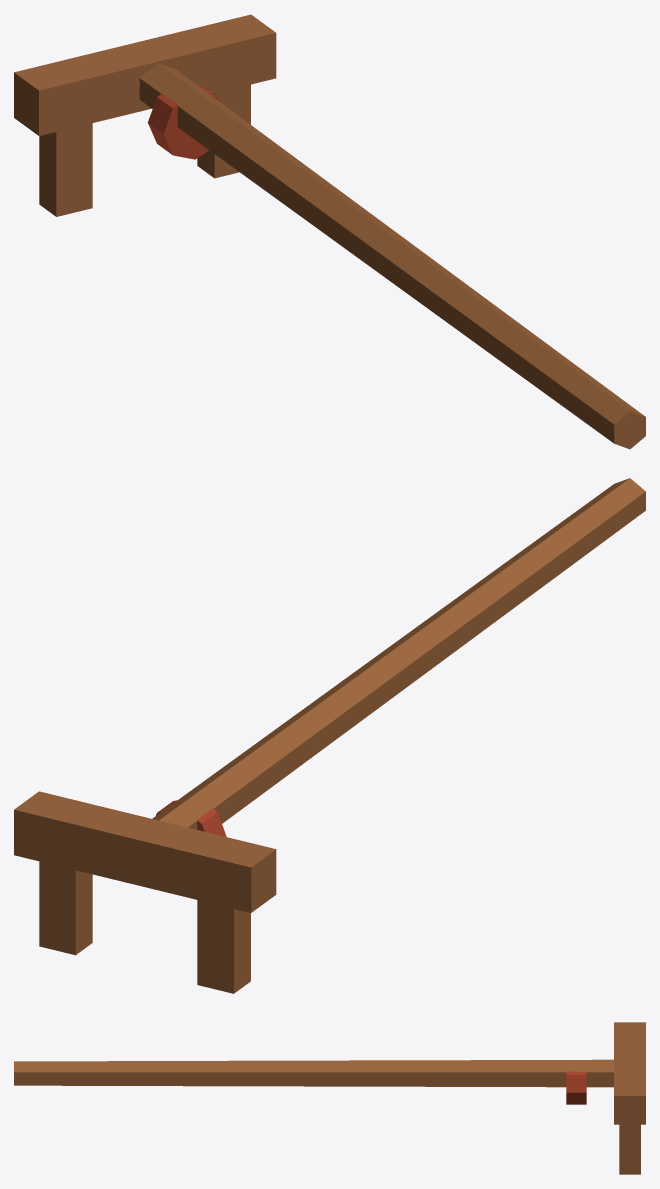
3 renders of one model, top to bottom at view 1: azimuth 30°, elevation 25°; view 2: azimuth 150°, elevation 25°; view 3: azimuth 270°, elevation 25°, orthographic. The views are drawn at different scales.
Parts seen in each view (by area): view 1: Handle, Head, tine_0, tine_1; view 2: Handle, Head, tine_0, tine_1; view 3: Handle, Head, tine_1.
Part boxes in pixels (x1,y1,x2,y2): Handle: (139,63,645,449); Head: (14,14,276,159); tine_0: (39,123,92,216); tine_1: (197,84,250,178); Handle: (152,478,645,829); Head: (14,791,276,912); tine_0: (197,900,250,993); tine_1: (39,861,92,955); Handle: (14,1059,613,1087); Head: (566,1022,645,1124); tine_1: (619,1124,640,1174).
Bounding box in the file's own units: 12 × 6.5 × 43.6.
